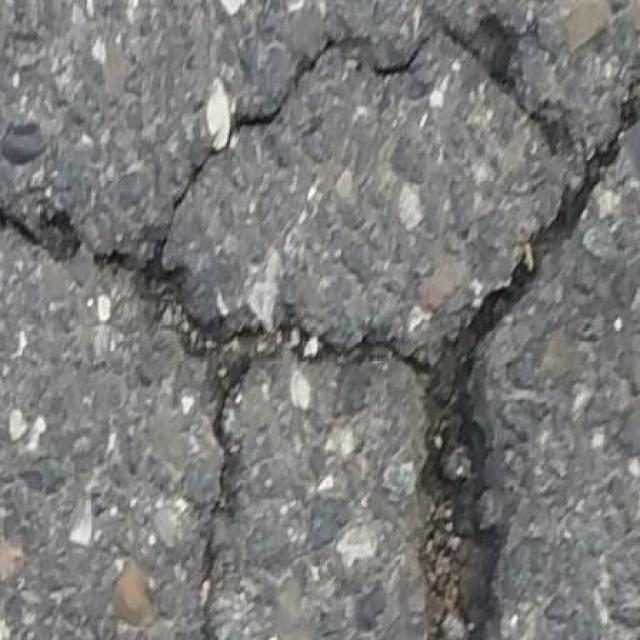Crack: (1, 18, 640, 640)
